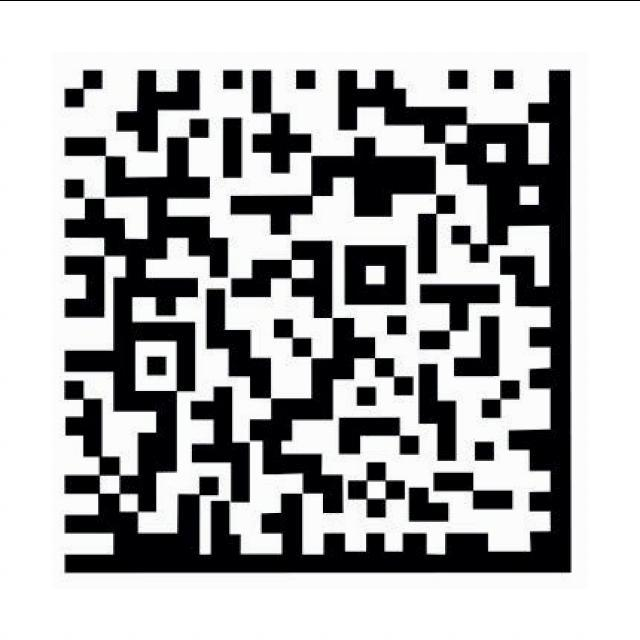Data-Matrix: (52, 51, 588, 588)
